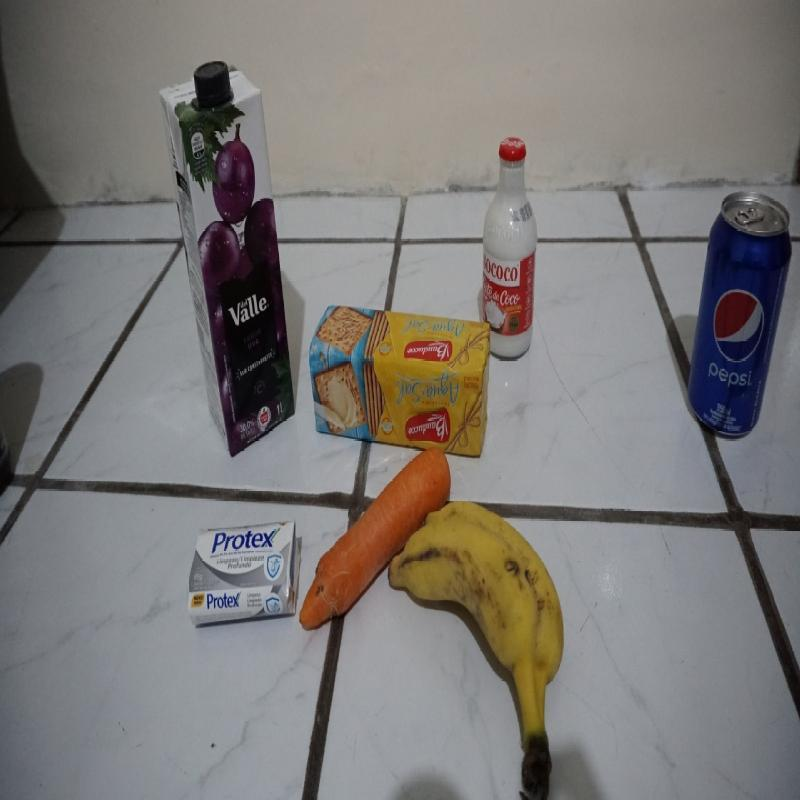Banana: (390, 498, 566, 796)
Carrot: (300, 450, 451, 635)
Coconut Milk: (484, 138, 536, 364)
Cracker: (310, 306, 490, 462)
Soap: (187, 521, 302, 628)
Soda can: (689, 189, 793, 440)
